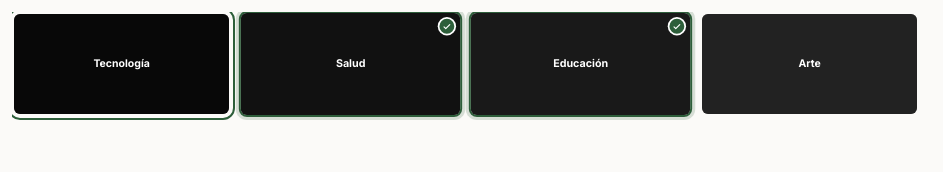
Test: CategoryPicker — max 3 selections › allows picking a different category after deselecting one at the cap
Earlier steps of the test are not shown.
Expected: the button titled "Tecnología" is not pressed, x1=12 y1=12 x2=231 y2=116
What coordinates should you click on to do the following:
click the button titled "Arte"
I would click on:
 (810, 64)
Its box is x1=700 y1=12 x2=919 y2=116.
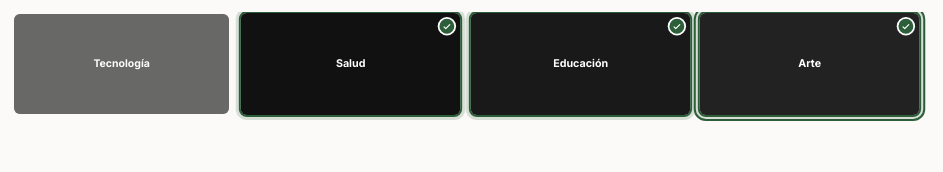
Now the button titled "Arte" is pressed, box x1=698 y1=11 x2=922 y2=117
